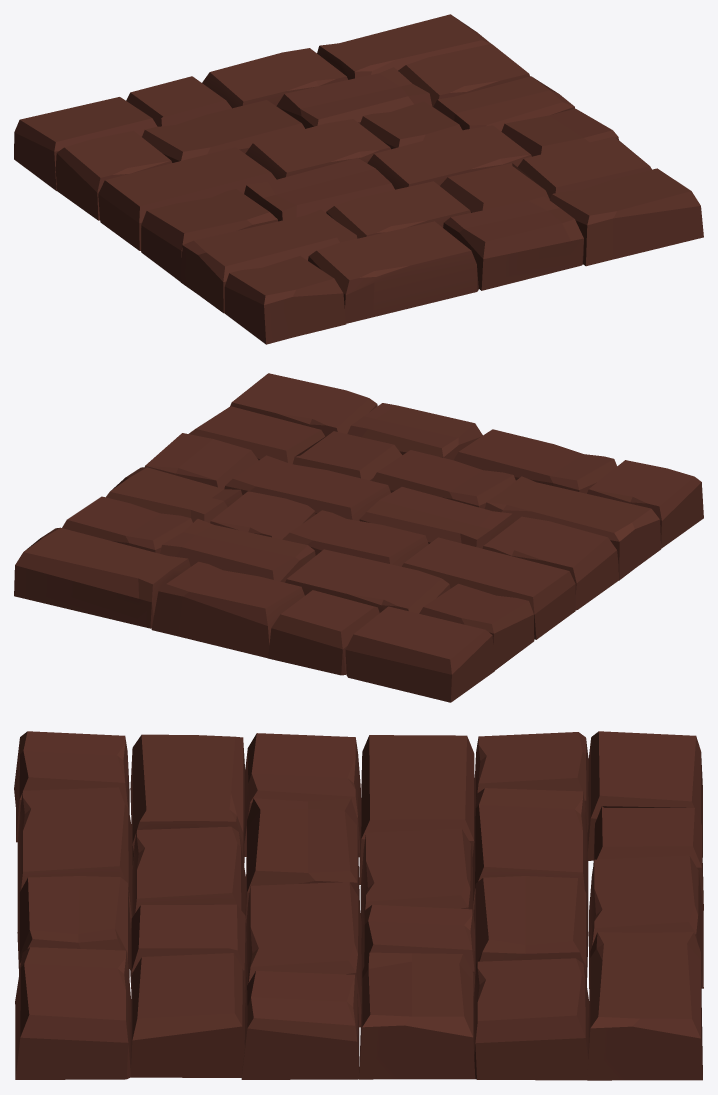
Rendered from Floor_Brick.fbx.
The picture shows the model from 3 angles, top to bottom: view 1: azimuth 30°, elevation 25°; view 2: azimuth 150°, elevation 25°; view 3: azimuth 270°, elevation 25°; orthographic projection. The views are drawn at different scales.
Visible parts, largest first — view 1: Floor_Brick; view 2: Floor_Brick; view 3: Floor_Brick.
Part boxes in pixels (box(x1,y1,x2,y2)): Floor_Brick: box(14, 14, 703, 344); Floor_Brick: box(14, 373, 703, 702); Floor_Brick: box(14, 731, 703, 1080).
Size of the model in its own units: 200 by 19.27 by 199.
